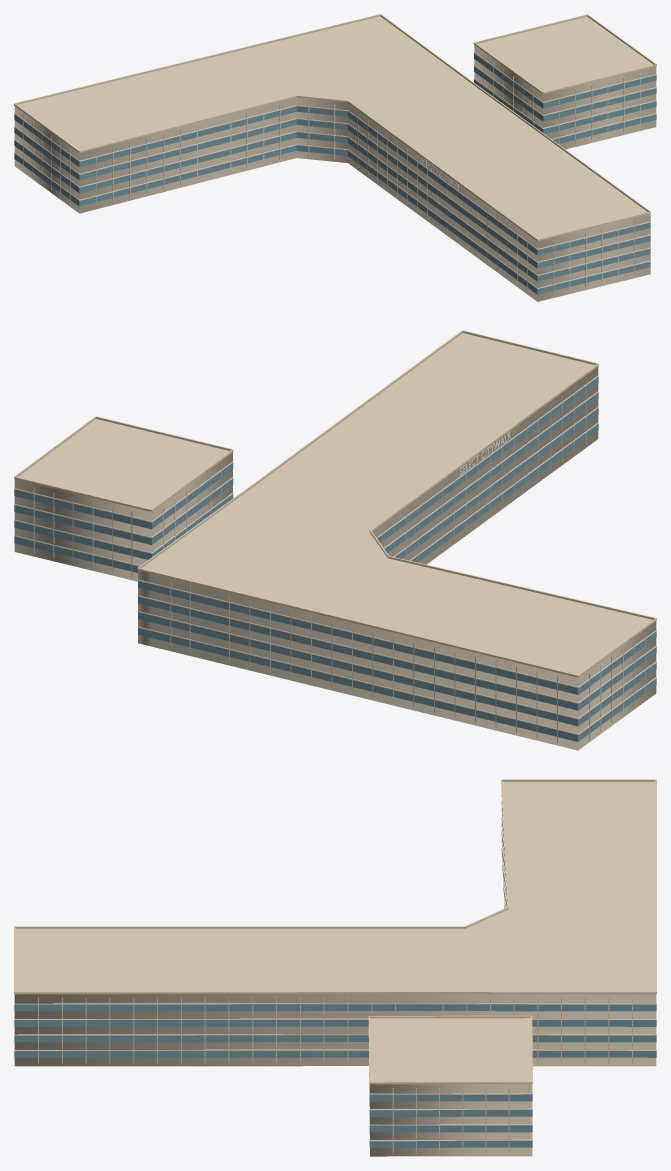
File: select-citywalk.glb
3 views of the same model, one above another, from view 1: azimuth 30°, elevation 25°; view 2: azimuth 150°, elevation 25°; view 3: azimuth 270°, elevation 25° (orthographic). The views are drawn at different scales.
Visible parts, largest first — view 1: NCR_select-citywalk; view 2: NCR_select-citywalk; view 3: NCR_select-citywalk.
Boxes of the visible parts, x1,y1,x2,y2 form: NCR_select-citywalk: (14,14,656,301); NCR_select-citywalk: (14,330,656,750); NCR_select-citywalk: (14,779,656,1156).
Bounding box in the file's own units: 210 × 24 × 188.
